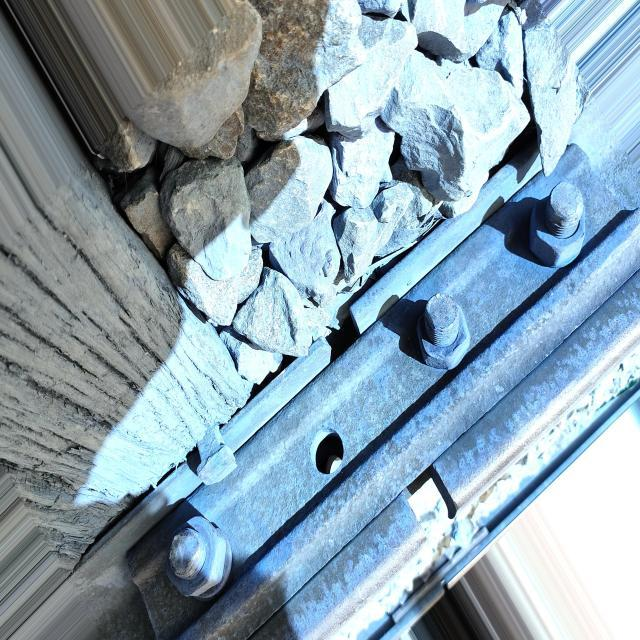Defective Joint: (80, 105, 640, 640)
Good Fasteners: (197, 425, 237, 485)
